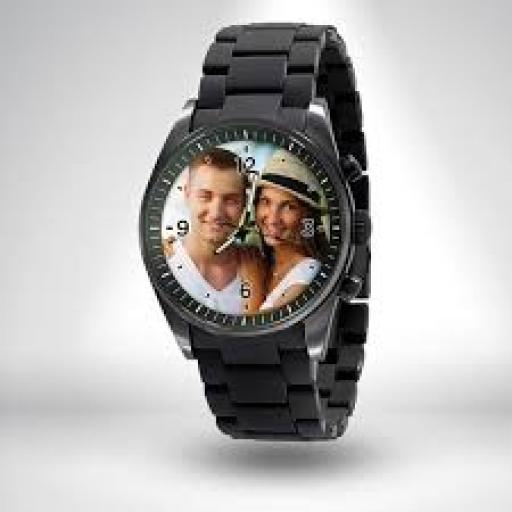KolSaati: (100, 5, 422, 447)
